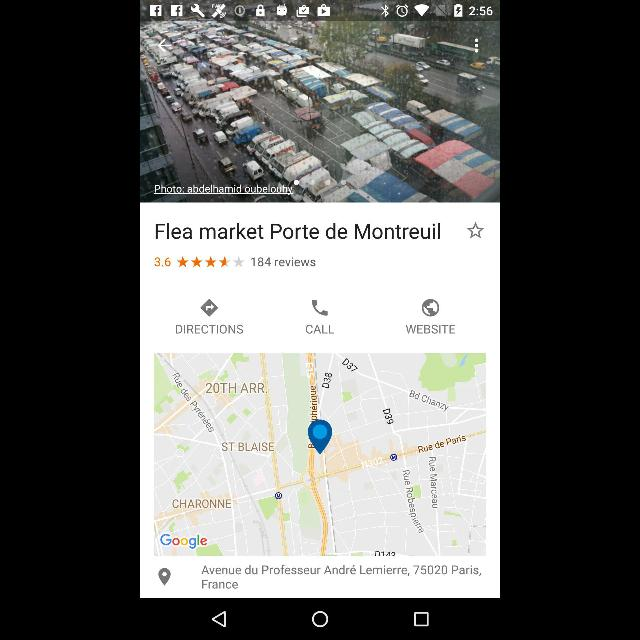backgroundimage: (140, 0, 498, 202)
icon: (422, 298, 440, 318), (312, 610, 328, 628), (201, 298, 217, 316), (310, 302, 328, 318), (212, 612, 226, 628), (160, 566, 170, 588), (414, 613, 428, 627), (469, 224, 483, 238), (158, 37, 170, 51), (206, 257, 217, 269), (178, 256, 188, 268), (474, 37, 481, 53), (234, 256, 244, 266), (220, 256, 228, 268), (193, 258, 201, 268)
map: (154, 352, 486, 558)
pageindicator: (294, 178, 346, 186)
panel: (141, 600, 499, 640)
text: (156, 224, 442, 240), (203, 566, 481, 576), (250, 257, 322, 271), (177, 324, 246, 334), (406, 324, 456, 334), (202, 580, 238, 590), (305, 325, 335, 335), (154, 256, 172, 268)
uppertaskbar: (140, 0, 500, 20)
